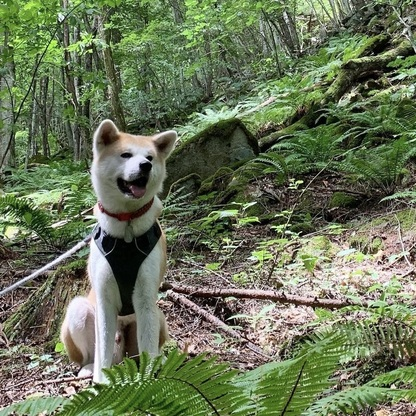akita: (56, 114, 180, 395)
